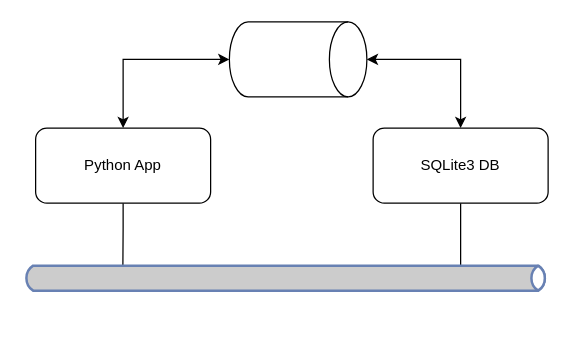
Image size: 570x339. Some labels were removed from this diagram. The shapes that lost their labels are listed below. From the top down, each one's box as (x1, y1, x2, y2) in pixels, then its label:
(228, 21, 367, 97): Volume
(21, 239, 549, 316): Network
